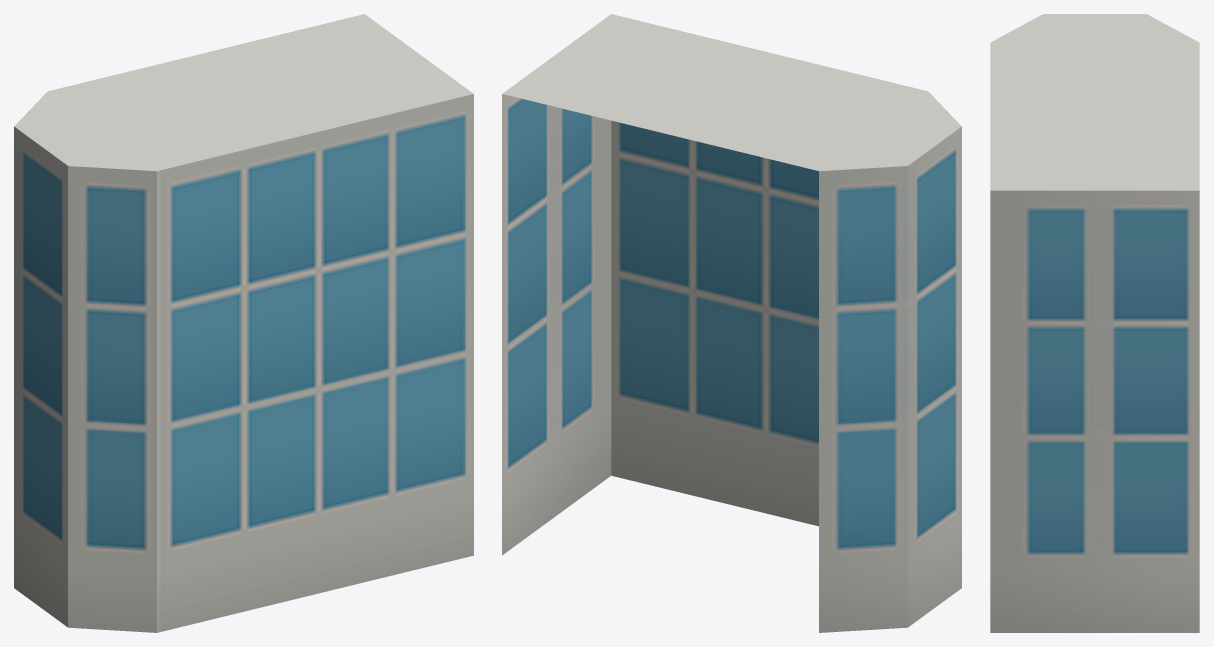
The model's file is Common_Building_10.fbx.
3 renders of one model, left to right at view 1: azimuth 30°, elevation 25°; view 2: azimuth 150°, elevation 25°; view 3: azimuth 270°, elevation 25°, orthographic. The views are drawn at different scales.
Visible parts, largest first — view 1: Common_Building_10; view 2: Common_Building_10; view 3: Common_Building_10.
Part boxes in pixels (bbox=[...]): Common_Building_10: bbox=[14, 14, 473, 632]; Common_Building_10: bbox=[502, 14, 961, 632]; Common_Building_10: bbox=[990, 14, 1199, 632].
Bounding box in the file's own units: 3960 × 4620 × 1980.
